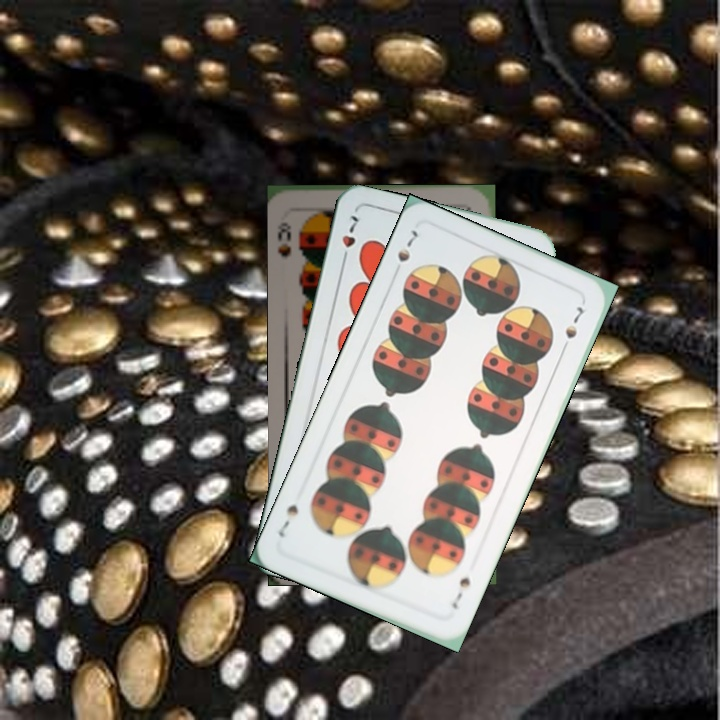H7: (337, 211, 361, 267)
S7: (393, 225, 421, 265), (448, 573, 474, 612)
S8: (274, 218, 293, 260)
